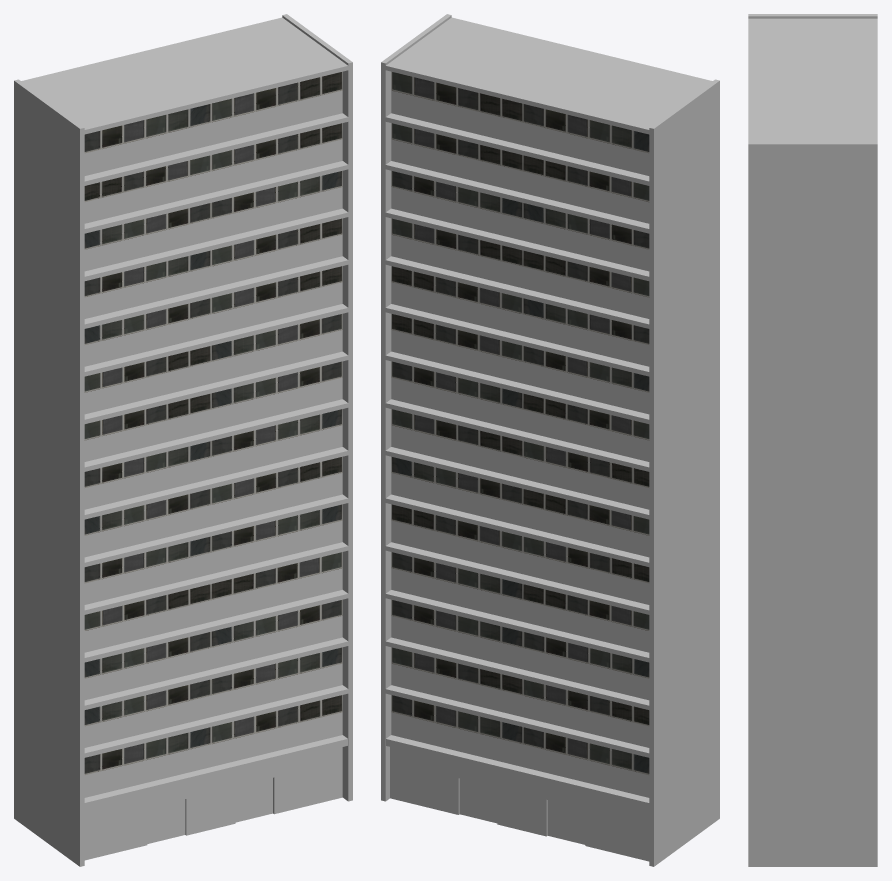
3 renders of one model, left to right at view 1: azimuth 30°, elevation 25°; view 2: azimuth 150°, elevation 25°; view 3: azimuth 270°, elevation 25°, orthographic. The views are drawn at different scales.
Parts seen in each view (by area): view 1: BC-094; view 2: BC-094; view 3: BC-094.
Part boxes in pixels (left/top/right/bottom): BC-094: left=14, top=14, right=352, bottom=866; BC-094: left=381, top=14, right=719, bottom=866; BC-094: left=748, top=14, right=877, bottom=866.
Size of what is drawn, in the model's own units: 20.55 by 53.1 by 8.61.
